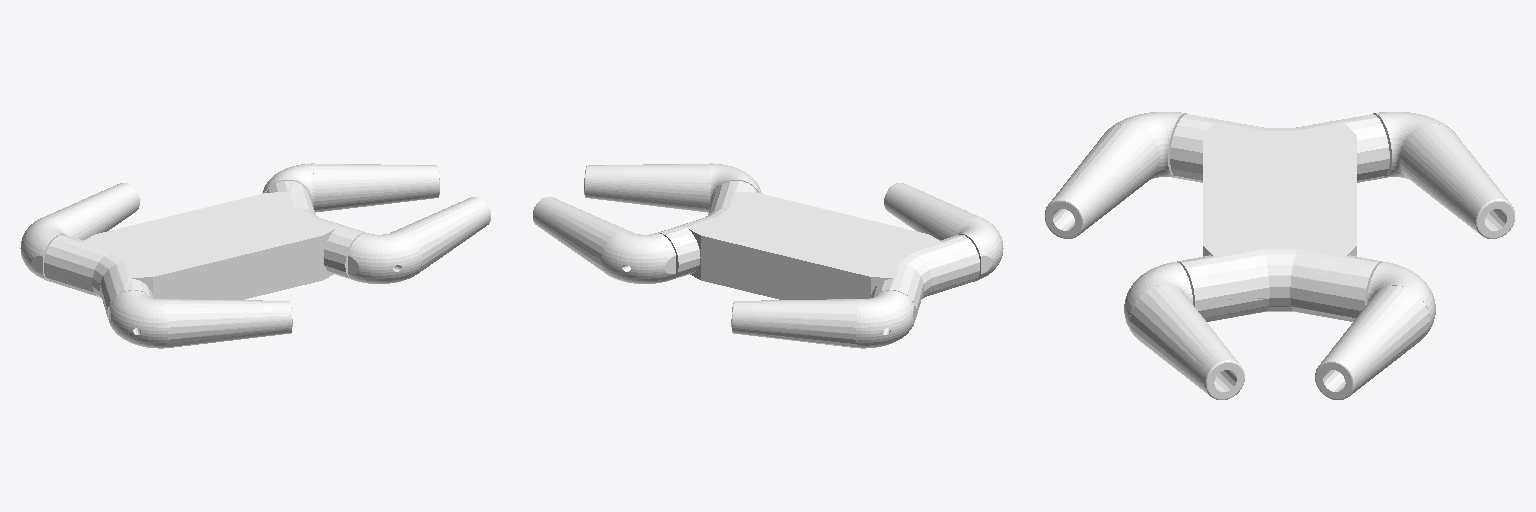
robot.urdf — 23_degree:
<?xml version="1.0" encoding="utf-8"?>
<!-- This URDF was automatically created by SolidWorks to URDF Exporter! Originally created by [author] ([email redacted]) 
     Commit Version: 1.5.1-0-g916b5db  Build Version: 1.5.7152.31018
     For more information, please see http://wiki.ros.org/sw_urdf_exporter -->
<robot
  name="23_degree">
  <link
    name="base_link">
    <inertial>
      <origin
        xyz="-6.9389E-18 7.3339E-08 -3.4694E-18"
        rpy="0 0 0" />
      <mass
        value="2.803" />
      <inertia
        ixx="0.009573913"
        ixy="2.2135E-18"
        ixz="-9.8245E-09"
        iyy="0.044235886"
        iyz="-2.7594E-18"
        izz="0.051433839" />
    </inertial>
    <visual>
      <origin
        xyz="0 0 0"
        rpy="0 0 0" />
      <geometry>
        <mesh
          filename="package://23_degree/meshes/base_link.STL" />
      </geometry>
      <material
        name="">
        <color
          rgba="1 1 1 1" />
      </material>
    </visual>
    <collision>
      <origin
        xyz="0 0 0"
        rpy="0 0 0" />
      <geometry>
        <mesh
          filename="package://23_degree/meshes/base_link.STL" />
      </geometry>
    </collision>
  </link>
  <link
    name="left_fromt_link">
    <inertial>
      <origin
        xyz="-8.8507E-08 0.078568 -0.006227"
        rpy="0 0 0" />
      <mass
        value="0.0947" />
      <inertia
        ixx="0.000382615"
        ixy="3.7953E-10"
        ixz="5.1777E-10"
        iyy="0.000083763"
        iyz="-0.000100044"
        izz="0.000348228" />
    </inertial>
    <visual>
      <origin
        xyz="0 0 0"
        rpy="0 0 0" />
      <geometry>
        <mesh
          filename="package://23_degree/meshes/left_fromt_link.STL" />
      </geometry>
      <material
        name="">
        <color
          rgba="1 1 1 1" />
      </material>
    </visual>
    <collision>
      <origin
        xyz="0 0 0"
        rpy="0 0 0" />
      <geometry>
        <mesh
          filename="package://23_degree/meshes/left_fromt_link.STL" />
      </geometry>
    </collision>
  </link>
  <joint
    name="left_front_leg"
    type="continuous">
    <origin
      xyz="0.17025 0.094812 0"
      rpy="1.5708 1.5708 0" />
    <parent
      link="base_link" />
    <child
      link="left_fromt_link" />
    <axis
      xyz="0 0.39073 -0.9205" />
    <limit
      effort="5"
      velocity="487" />
  </joint>
  <link
    name="right_front_link">
    <inertial>
      <origin
        xyz="8.8507E-08 0.078568 0.006227"
        rpy="0 0 0" />
      <mass
        value="0.0947" />
      <inertia
        ixx="0.000382615"
        ixy="-3.7953E-10"
        ixz="5.1777E-10"
        iyy="0.000083763"
        iyz="0.000100044"
        izz="0.000348228" />
    </inertial>
    <visual>
      <origin
        xyz="0 0 0"
        rpy="0 0 0" />
      <geometry>
        <mesh
          filename="package://23_degree/meshes/right_front_link.STL" />
      </geometry>
      <material
        name="">
        <color
          rgba="1 1 1 1" />
      </material>
    </visual>
    <collision>
      <origin
        xyz="0 0 0"
        rpy="0 0 0" />
      <geometry>
        <mesh
          filename="package://23_degree/meshes/right_front_link.STL" />
      </geometry>
    </collision>
  </link>
  <joint
    name="right_front_leg"
    type="continuous">
    <origin
      xyz="0.17025 -0.094812 0"
      rpy="1.5708 1.5708 0" />
    <parent
      link="base_link" />
    <child
      link="right_front_link" />
    <axis
      xyz="0 0.39073 0.9205" />
    <limit
      effort="5"
      velocity="487" />
  </joint>
  <link
    name="right_back_link">
    <inertial>
      <origin
        xyz="7.3753E-08 0.069889 0.036431"
        rpy="0 0 0" />
      <mass
        value="0.0947" />
      <inertia
        ixx="0.000382615"
        ixy="-2.8107E-10"
        ixz="8.0621E-10"
        iyy="0.000052173"
        iyz="-0.000025623"
        izz="0.000379818" />
    </inertial>
    <visual>
      <origin
        xyz="0 0 0"
        rpy="0 0 0" />
      <geometry>
        <mesh
          filename="package://23_degree/meshes/right_back_link.STL" />
      </geometry>
      <material
        name="">
        <color
          rgba="1 1 1 1" />
      </material>
    </visual>
    <collision>
      <origin
        xyz="0 0 0"
        rpy="0 0 0" />
      <geometry>
        <mesh
          filename="package://23_degree/meshes/right_back_link.STL" />
      </geometry>
    </collision>
  </link>
  <joint
    name="right_back_leg"
    type="continuous">
    <origin
      xyz="-0.17025 -0.094812 0"
      rpy="1.9722 1.5708 0" />
    <parent
      link="base_link" />
    <child
      link="right_back_link" />
    <axis
      xyz="0 0 1" />
    <limit
      effort="5"
      velocity="487" />
  </joint>
  <link
    name="left_back_link">
    <inertial>
      <origin
        xyz="-7.3753E-08 0.050099 -0.060843"
        rpy="0 0 0" />
      <mass
        value="0.0947" />
      <inertia
        ixx="0.000382615"
        ixy="5.7373E-10"
        ixz="6.3229E-10"
        iyy="0.000120627"
        iyz="0.000135643"
        izz="0.000311364" />
    </inertial>
    <visual>
      <origin
        xyz="0 0 0"
        rpy="0 0 0" />
      <geometry>
        <mesh
          filename="package://23_degree/meshes/left_back_link.STL" />
      </geometry>
      <material
        name="">
        <color
          rgba="1 1 1 1" />
      </material>
    </visual>
    <collision>
      <origin
        xyz="0 0 0"
        rpy="0 0 0" />
      <geometry>
        <mesh
          filename="package://23_degree/meshes/left_back_link.STL" />
      </geometry>
    </collision>
  </link>
  <joint
    name="left_back_leg"
    type="continuous">
    <origin
      xyz="-0.17025 0.094812 0"
      rpy="1.5708 1.5708 0" />
    <parent
      link="base_link" />
    <child
      link="left_back_link" />
    <axis
      xyz="0 -0.39073 -0.9205" />
    <limit
      effort="5"
      velocity="487" />
  </joint>
</robot>

--- Render facts (derived) ---
3 views of the same robot in one strip: view 1: azimuth 30°, elevation 25°; view 2: azimuth 150°, elevation 25°; view 3: azimuth 270°, elevation 25° (orthographic).
Robot: 23_degree — 5 links, 4 joints (4 continuous); root link base_link; default pose: all joints at 0.
Visible links, largest first — view 1: base_link, right_back_link, right_front_link, left_fromt_link, left_back_link; view 2: base_link, left_back_link, left_fromt_link, right_front_link, right_back_link; view 3: base_link, left_back_link, right_back_link, left_fromt_link, right_front_link.
Link boxes in pixels (box(x1,y1,x2,y2)): base_link: box(44, 181, 365, 319); right_back_link: box(109, 290, 292, 348); right_front_link: box(348, 197, 490, 283); left_fromt_link: box(262, 163, 439, 212); left_back_link: box(20, 183, 139, 281); base_link: box(658, 181, 979, 319); left_back_link: box(731, 290, 914, 348); left_fromt_link: box(533, 197, 675, 283); right_front_link: box(584, 163, 761, 212); right_back_link: box(884, 183, 1003, 281); base_link: box(1170, 114, 1389, 321); left_back_link: box(1373, 112, 1514, 238); right_back_link: box(1045, 112, 1186, 238); left_fromt_link: box(1315, 262, 1435, 399); right_front_link: box(1124, 262, 1244, 399).
Size in the robot's own frame: 0.5857 by 0.4592 by 0.064 metres.
5 mesh visuals loaded from 5 distinct referenced files (5 binary STL).